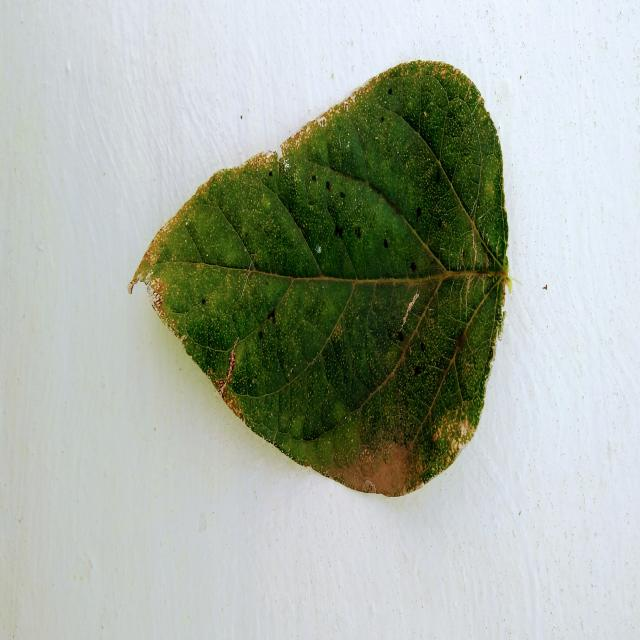seedling blight: (129, 62, 508, 496)
